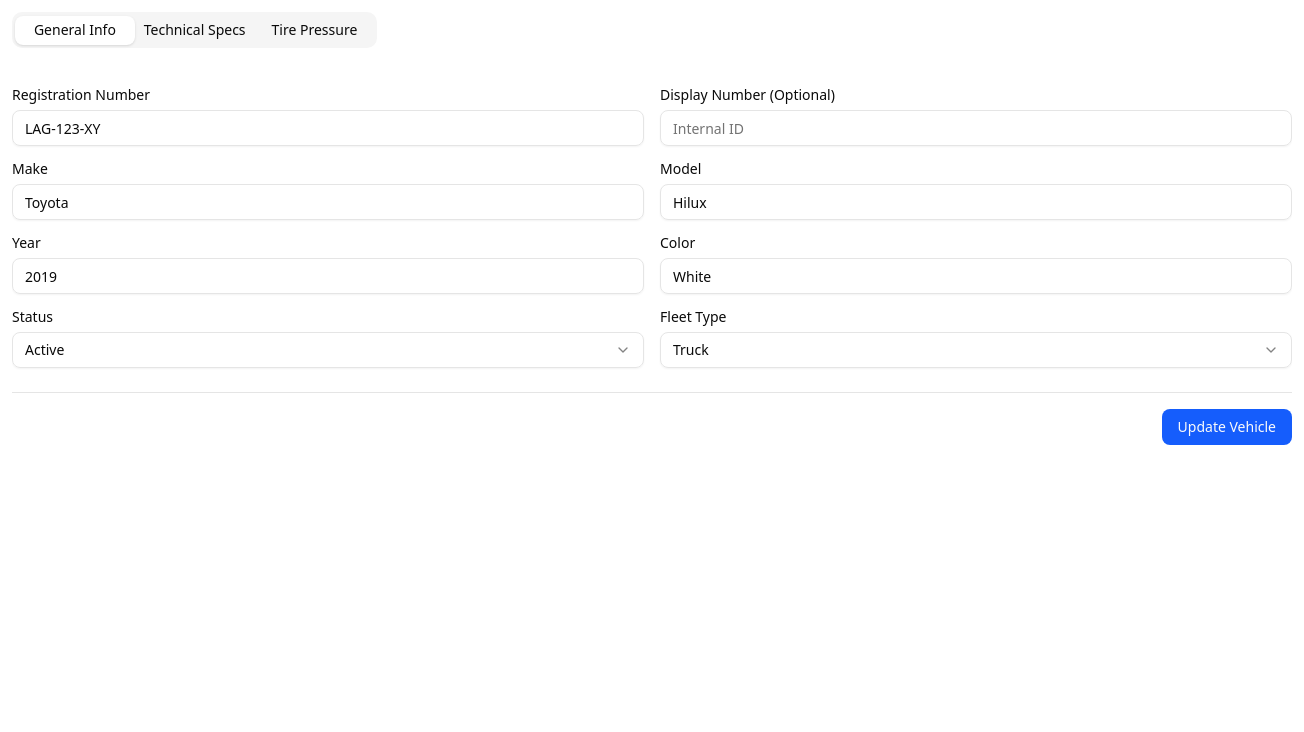
the vehicle form’s fuel estimation fields › refuses a rate the API would refuse, and sends nothing
Click the tab "Technical Specs". click: x=195, y=30
box: left=135, top=16, right=255, bottom=44
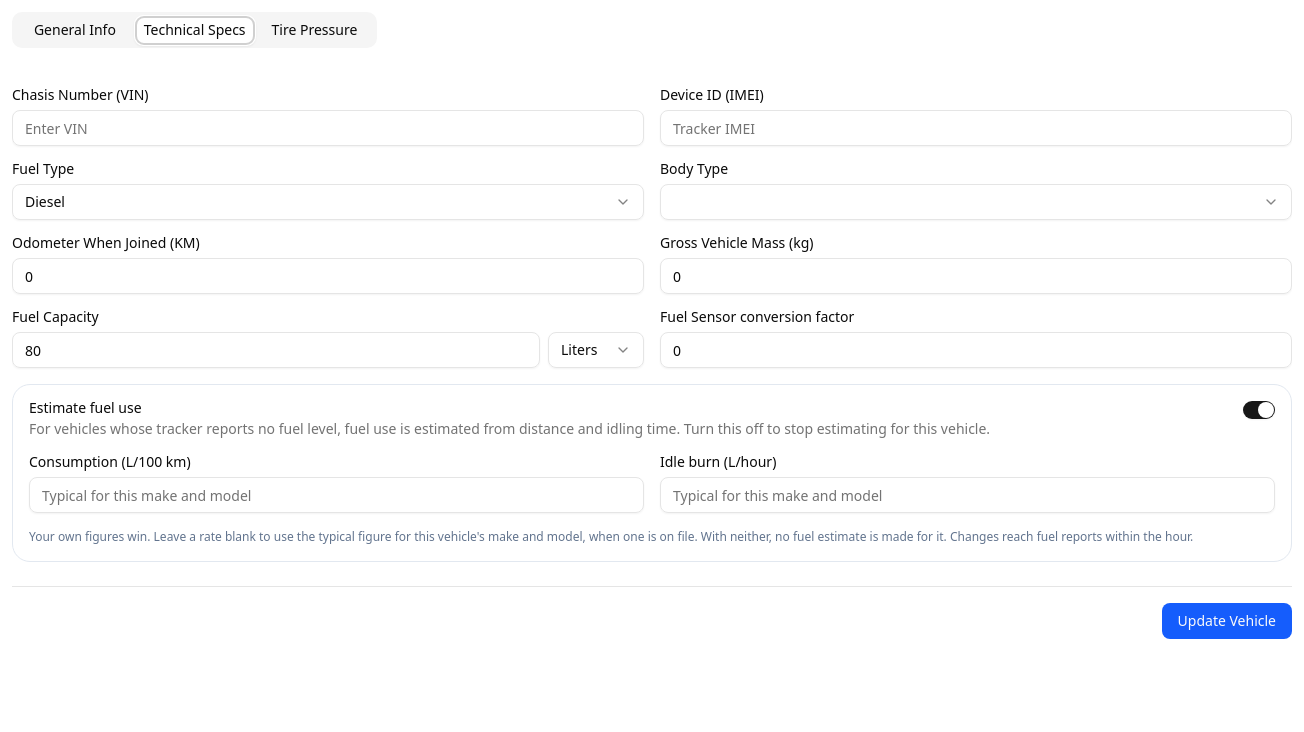
Type "501" into the number field labelled "Consumption (L/100 km)". click: x=336, y=495
box: left=29, top=477, right=644, bottom=513
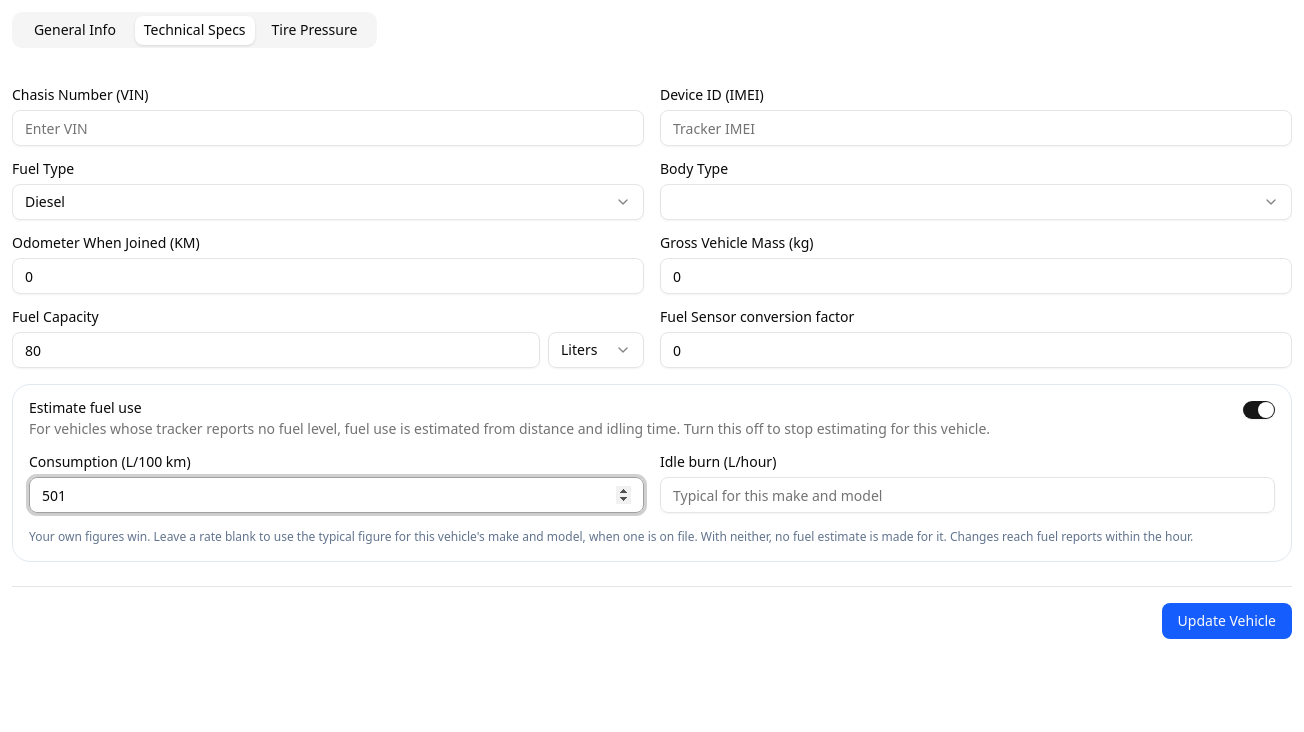
Type "0" into the number field labelled "Idle burn (L/hour)". click: x=968, y=495
box: left=660, top=477, right=1275, bottom=513
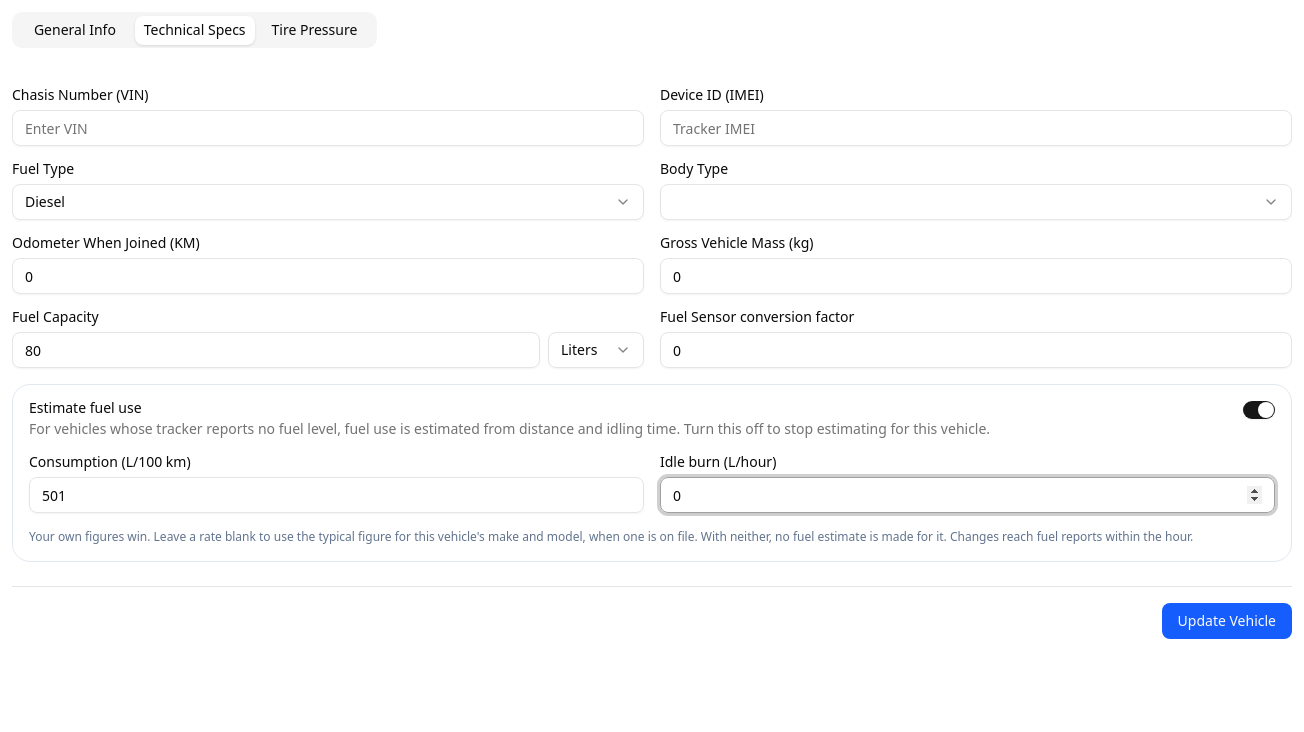
Click the button "Update Vehicle". click: x=1227, y=621
box: left=1162, top=603, right=1292, bottom=639
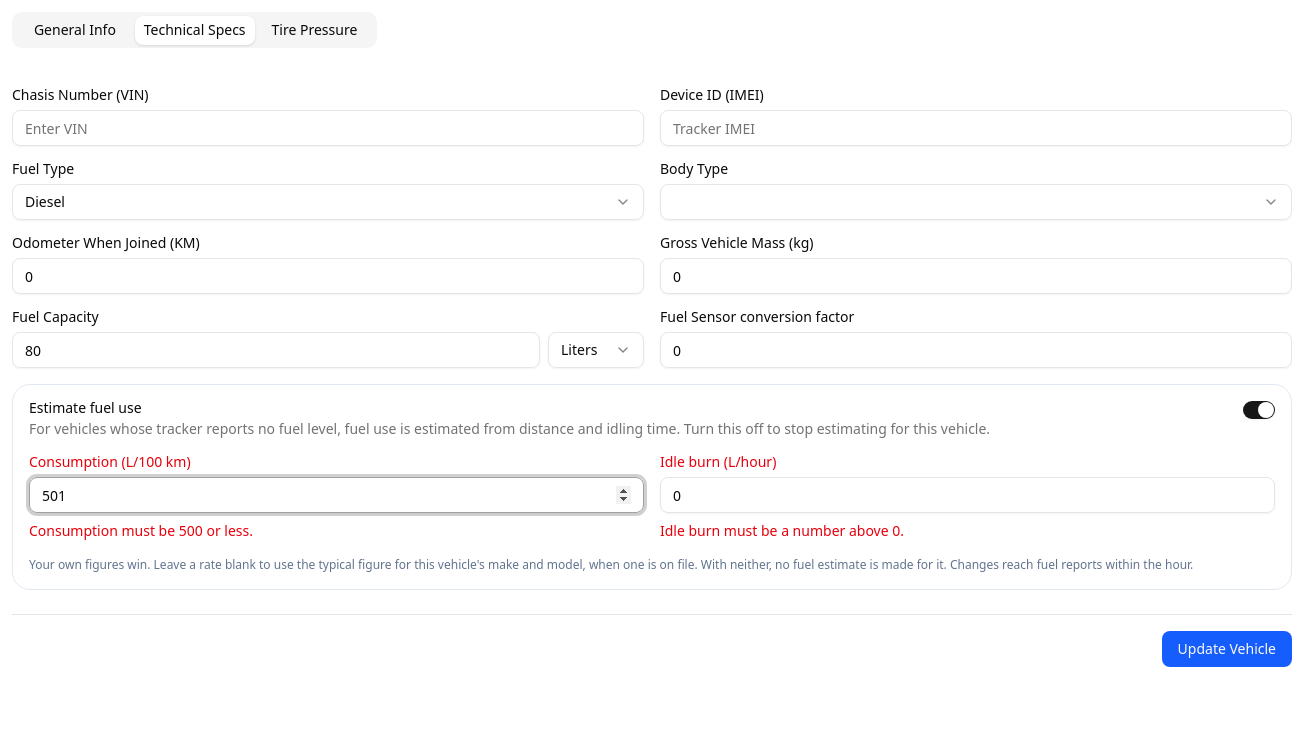
Check: the text "Consumption must be 500 or less." is shown, box left=29, top=521, right=253, bottom=540
Check: the text "Idle burn must be a number above 0." is shown, box left=660, top=521, right=904, bottom=540
